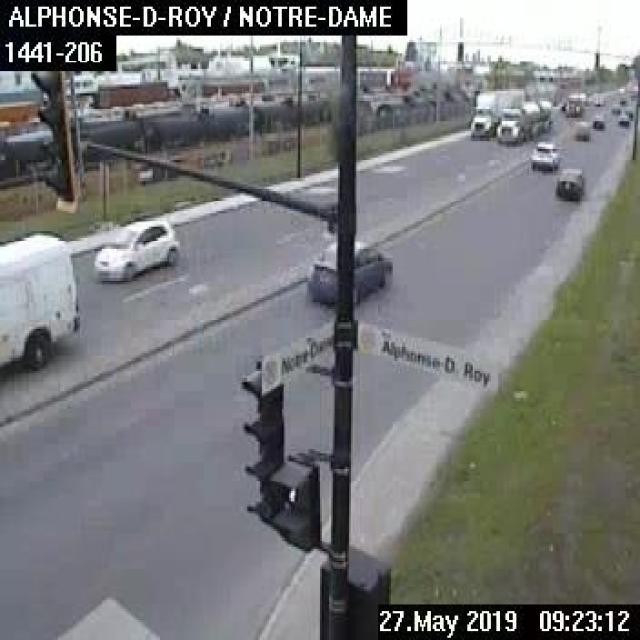vehicle: (0, 231, 80, 369), (306, 236, 392, 310), (91, 213, 178, 280), (467, 84, 527, 142), (493, 95, 554, 141), (554, 164, 586, 200), (529, 136, 559, 172), (560, 91, 585, 113), (573, 118, 592, 138), (592, 114, 603, 128), (592, 93, 603, 104), (616, 114, 626, 125), (610, 103, 619, 113), (622, 106, 631, 116)
